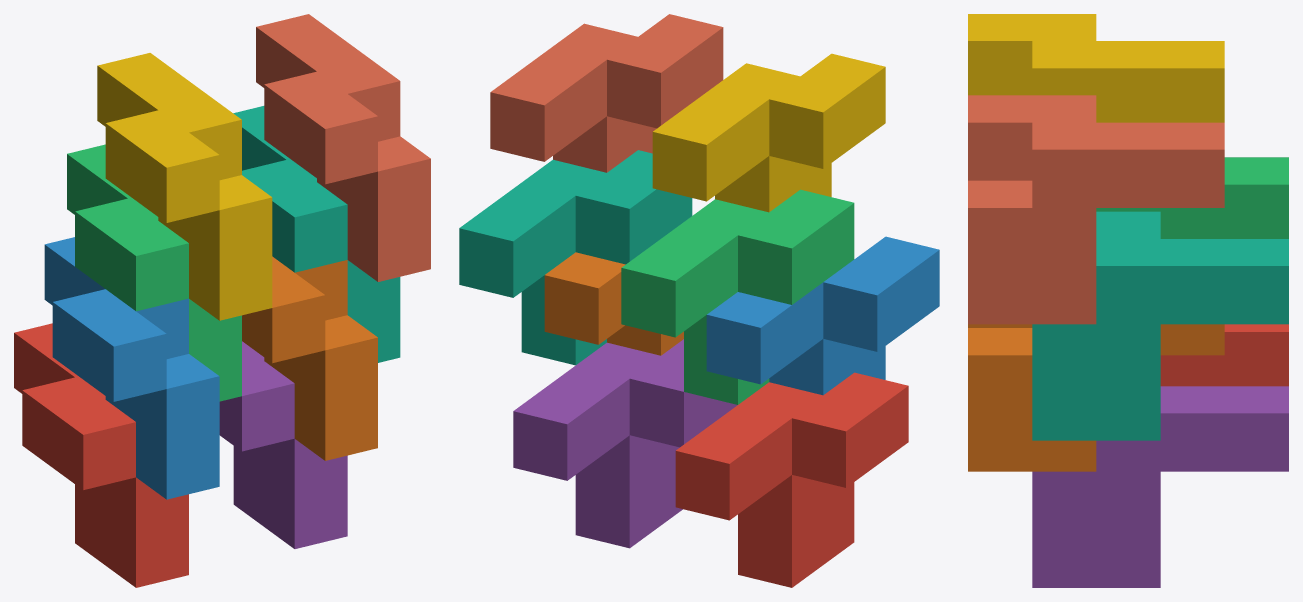
Rendered from tiling.obj.
3 views of the same model, side by side, from view 1: azimuth 30°, elevation 25°; view 2: azimuth 150°, elevation 25°; view 3: azimuth 270°, elevation 25° (orthographic). The views are drawn at different scales.
Parts seen in each view (by area): view 1: copy_1_domain_4, copy_1_domain_8, copy_1_domain_2, copy_1_domain_1, copy_1_domain_6, copy_1_domain_3, copy_1_domain_5, copy_1_domain_7; view 2: copy_1_domain_1, copy_1_domain_5, copy_1_domain_4, copy_1_domain_8, copy_1_domain_3, copy_1_domain_7, copy_1_domain_2, copy_1_domain_6; view 3: copy_1_domain_8, copy_1_domain_7, copy_1_domain_5, copy_1_domain_4, copy_1_domain_6, copy_1_domain_3, copy_1_domain_1.
Boxes of the visible parts, bbox=[...] form: copy_1_domain_4: bbox=[97, 53, 272, 320]; copy_1_domain_8: bbox=[256, 14, 430, 281]; copy_1_domain_2: bbox=[44, 237, 219, 499]; copy_1_domain_1: bbox=[14, 323, 188, 587]; copy_1_domain_6: bbox=[242, 256, 377, 460]; copy_1_domain_3: bbox=[67, 144, 241, 401]; copy_1_domain_5: bbox=[219, 341, 347, 548]; copy_1_domain_7: bbox=[233, 106, 400, 362]; copy_1_domain_1: bbox=[675, 372, 908, 587]; copy_1_domain_5: bbox=[513, 339, 737, 548]; copy_1_domain_4: bbox=[652, 53, 885, 212]; copy_1_domain_8: bbox=[490, 14, 723, 172]; copy_1_domain_3: bbox=[621, 189, 854, 404]; copy_1_domain_7: bbox=[459, 150, 692, 365]; copy_1_domain_2: bbox=[706, 236, 939, 395]; copy_1_domain_6: bbox=[544, 252, 683, 355]; copy_1_domain_8: bbox=[968, 95, 1224, 324]; copy_1_domain_7: bbox=[1032, 211, 1288, 440]; copy_1_domain_5: bbox=[1032, 386, 1288, 587]; copy_1_domain_4: bbox=[968, 14, 1224, 122]; copy_1_domain_6: bbox=[968, 324, 1224, 471]; copy_1_domain_3: bbox=[1096, 157, 1288, 238]; copy_1_domain_1: bbox=[1160, 324, 1288, 386].
Size of the model in its own units: 6 by 8 by 5.
